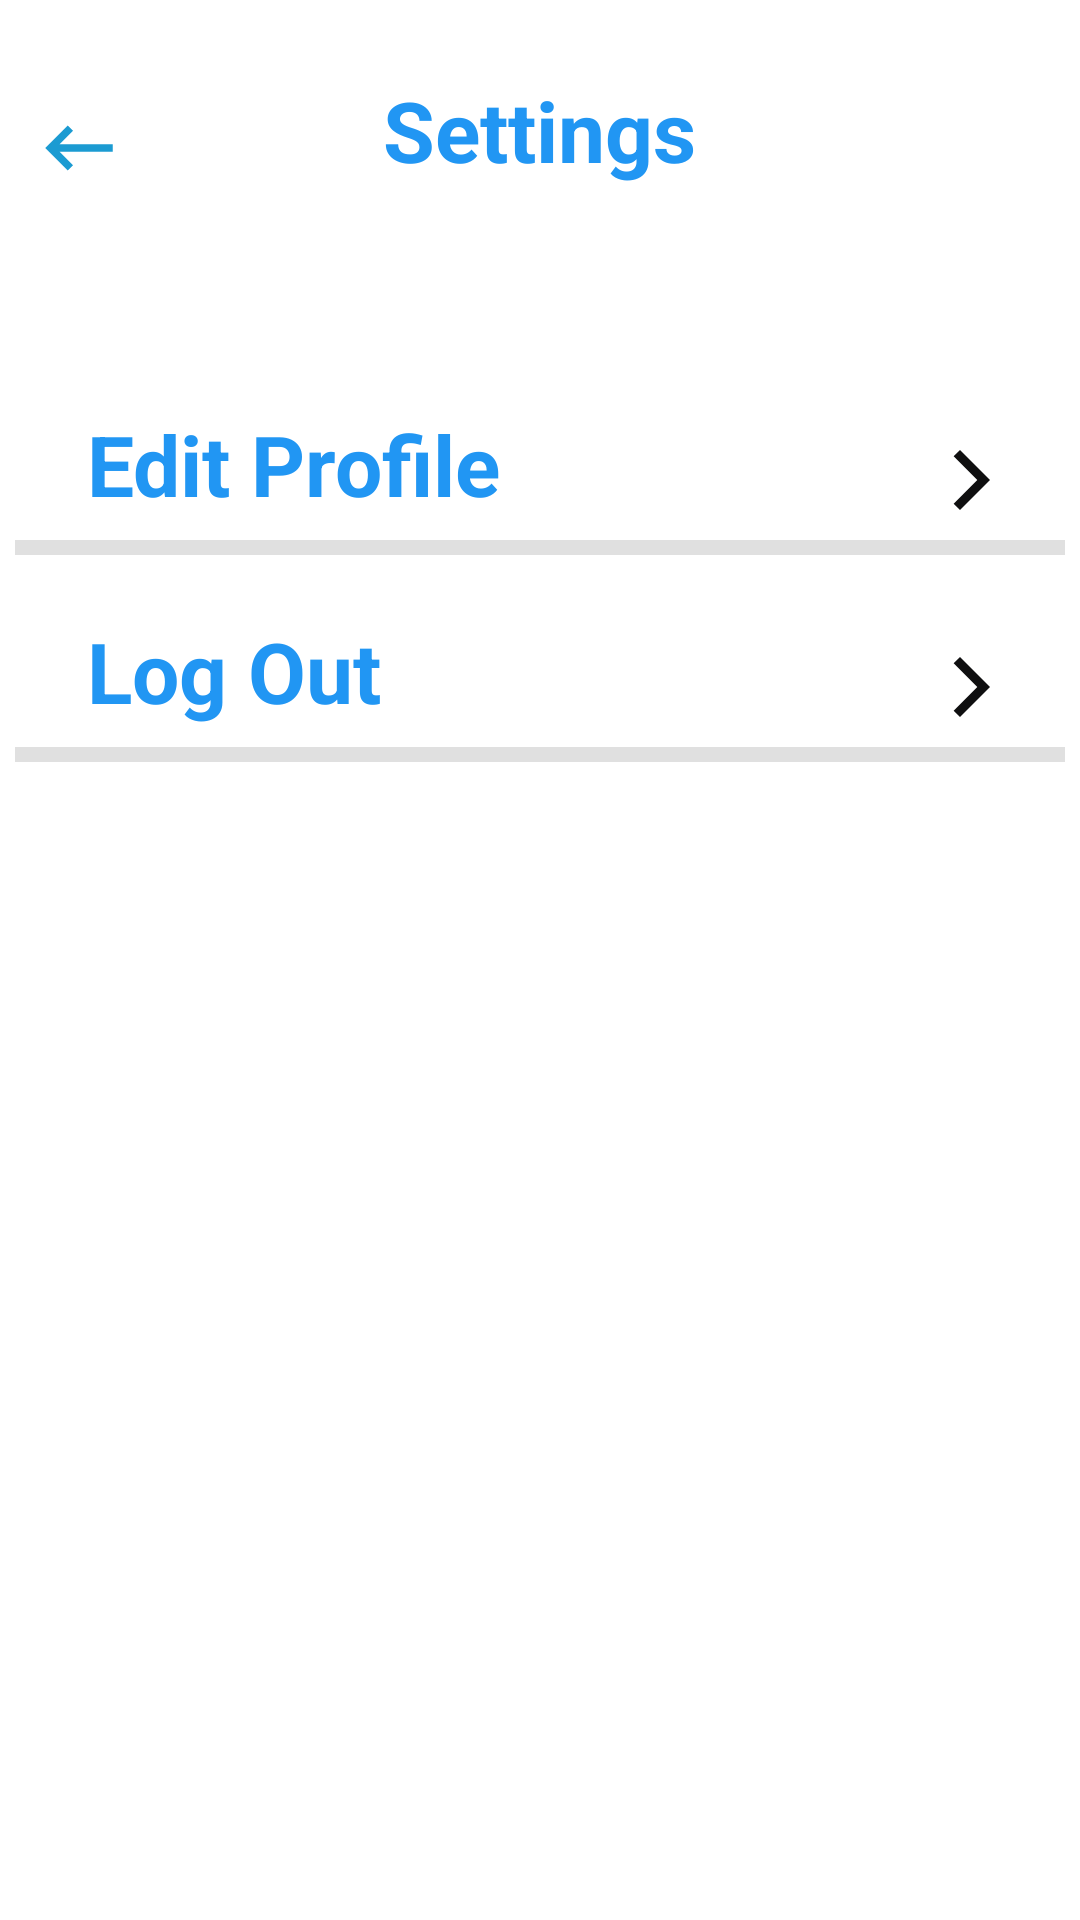

Point at icon controls on the screen. Image size 1080×1920, points as (x,y).
arrow forward: (971,480), (971,687)
keyboard backspace: (79,148)
